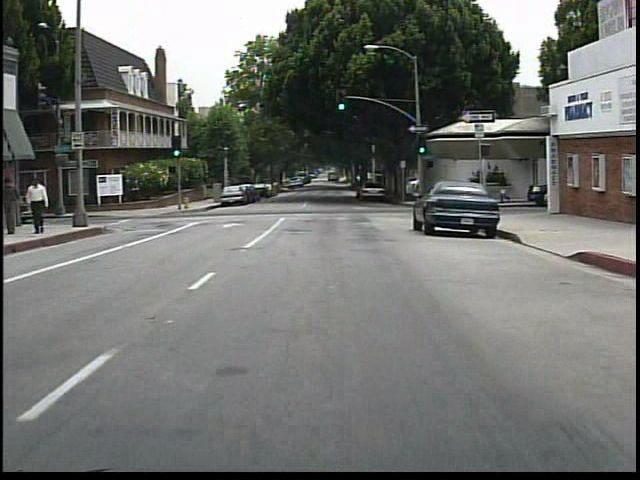person: (29, 177, 55, 237), (496, 170, 512, 205)
